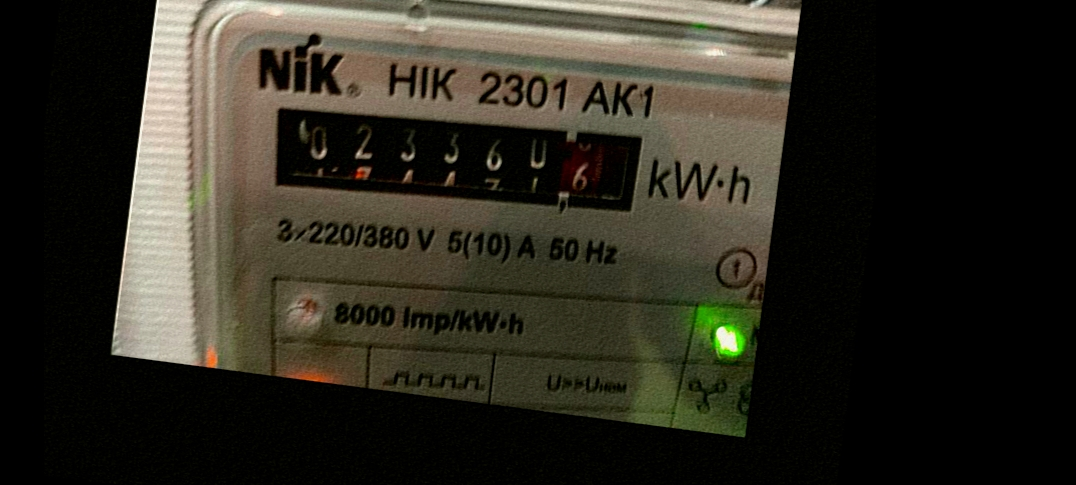0: (305, 119, 336, 164), (526, 133, 554, 172)
2: (350, 119, 381, 162)
3: (439, 126, 466, 167), (397, 123, 423, 165)
6: (480, 132, 511, 176), (570, 158, 596, 196)
screen: (247, 73, 660, 242)
